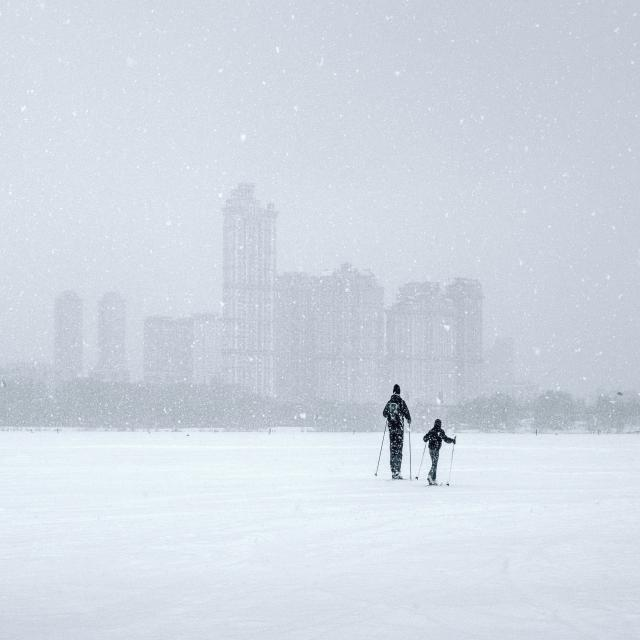adult: (382, 384, 412, 479), (423, 420, 456, 486)
